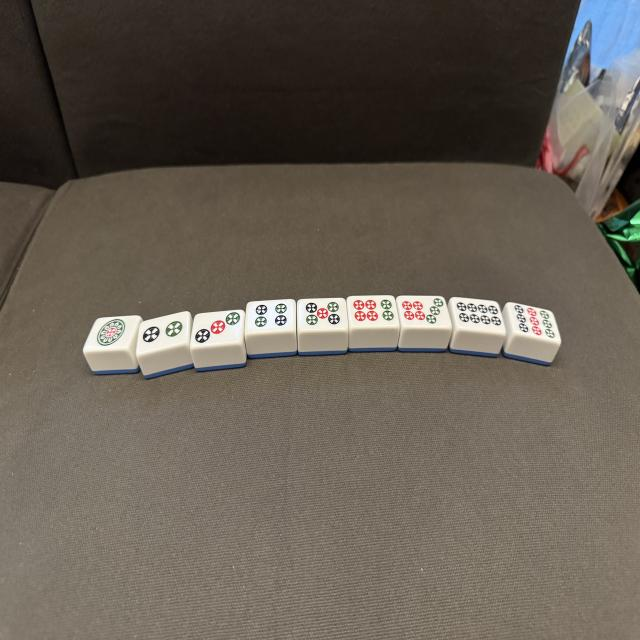1D: (83, 316, 142, 351)
2D: (140, 317, 186, 348)
3D: (191, 311, 245, 349)
4D: (248, 300, 298, 332)
5D: (298, 298, 348, 329)
6D: (347, 297, 399, 327)
7D: (396, 297, 452, 329)
8D: (450, 299, 507, 331)
9D: (510, 302, 557, 342)
